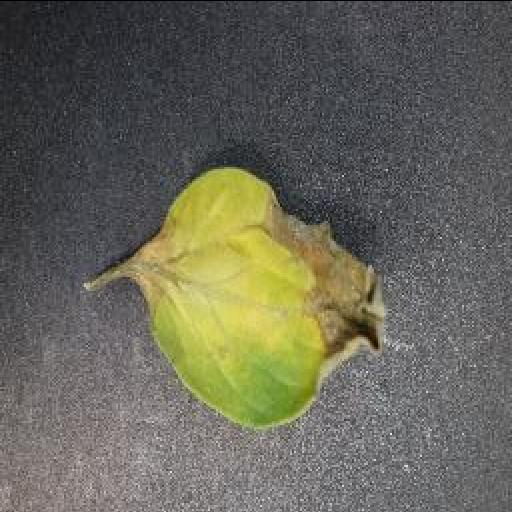disease_tomato: (140, 162, 396, 424)
